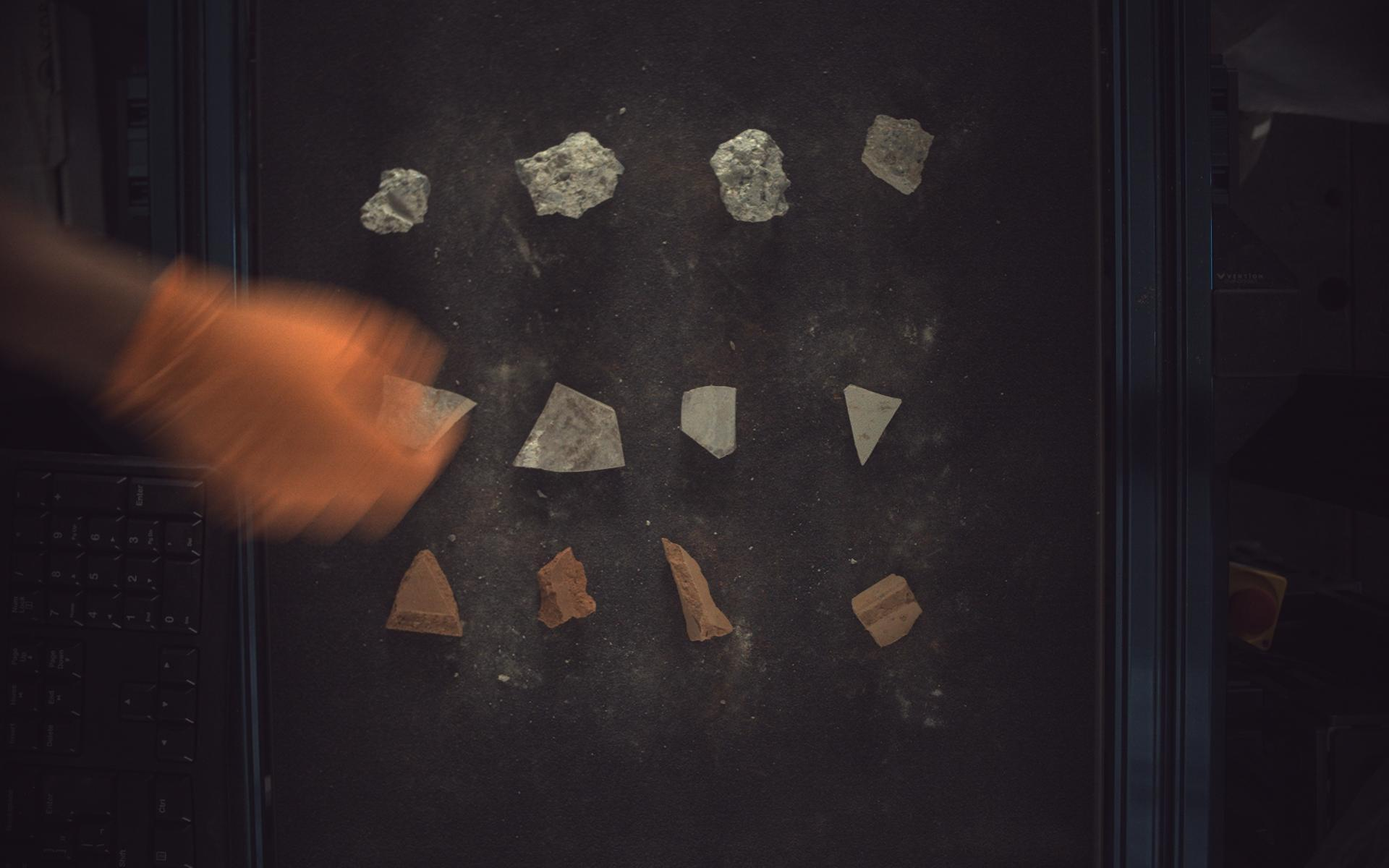brick: (663, 538, 734, 642), (385, 550, 462, 637), (854, 574, 924, 648), (538, 548, 596, 629)
concrete: (516, 131, 624, 217), (712, 128, 791, 221), (863, 114, 936, 193), (360, 167, 430, 234)
tile: (514, 383, 626, 472), (846, 385, 903, 464), (682, 386, 737, 459)
